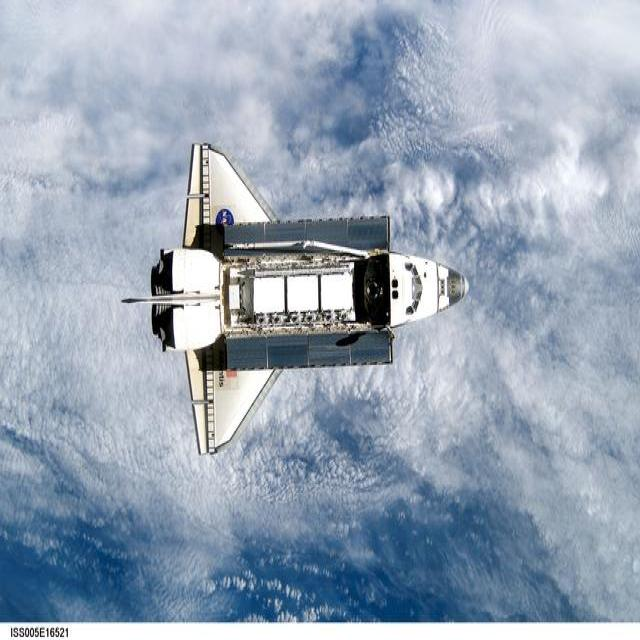medium_debris: (124, 143, 468, 454)
